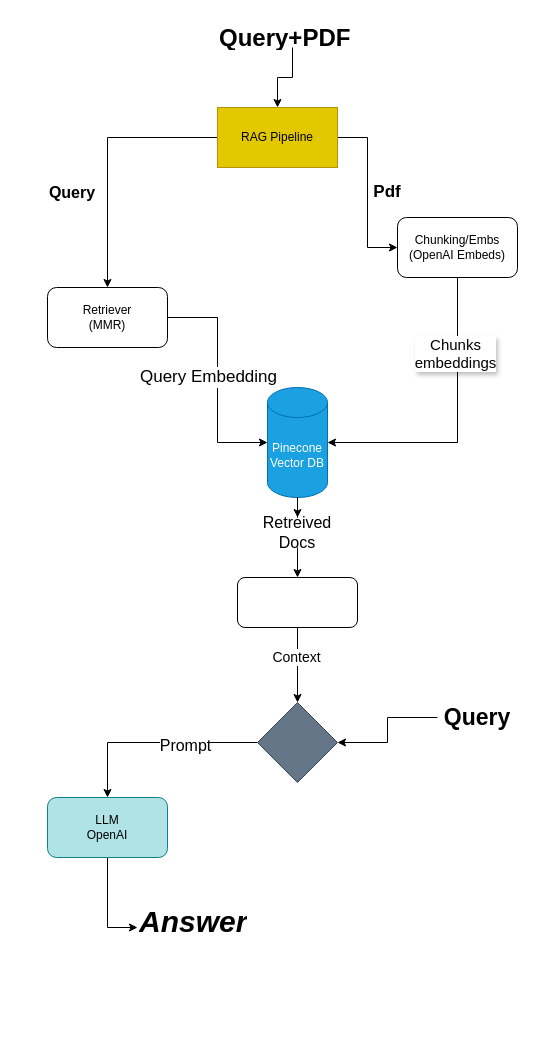
The diagram is 535 pixels wide and 1037 high, and some of its shapes have lost their labels. Here are the shapes that lost their labels. From the top down, the centre of each, then its label:
the point at 297,602: Cohere Reranker
the point at 297,742: Prompt Template
